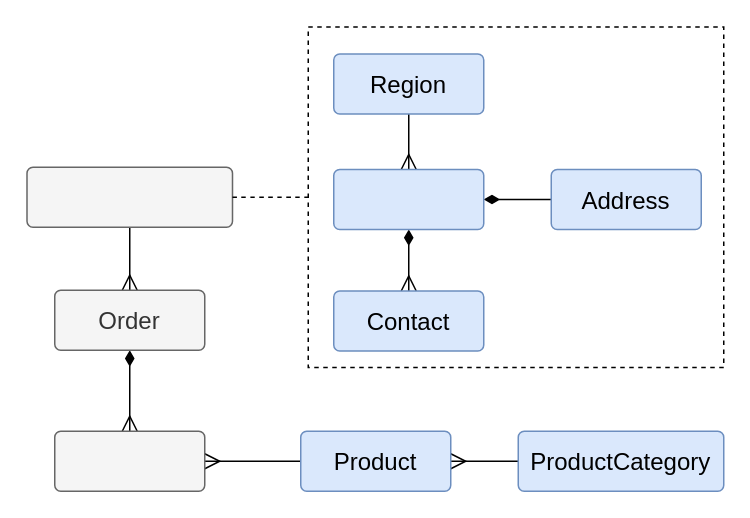
Image size: 750x518. Some labels were removed from this diagram. Each missing label, with the centre of its shape:
Customer: point 408,199
OrderLine: point 129,460
SimpleCustomer: point 129,196
